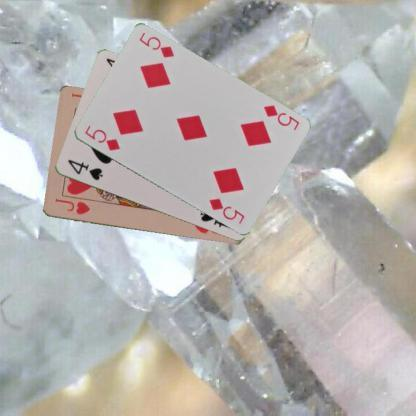4s: (64, 156, 104, 182)
5d: (82, 122, 122, 152), (260, 102, 300, 132)
Jh: (52, 196, 92, 216)
